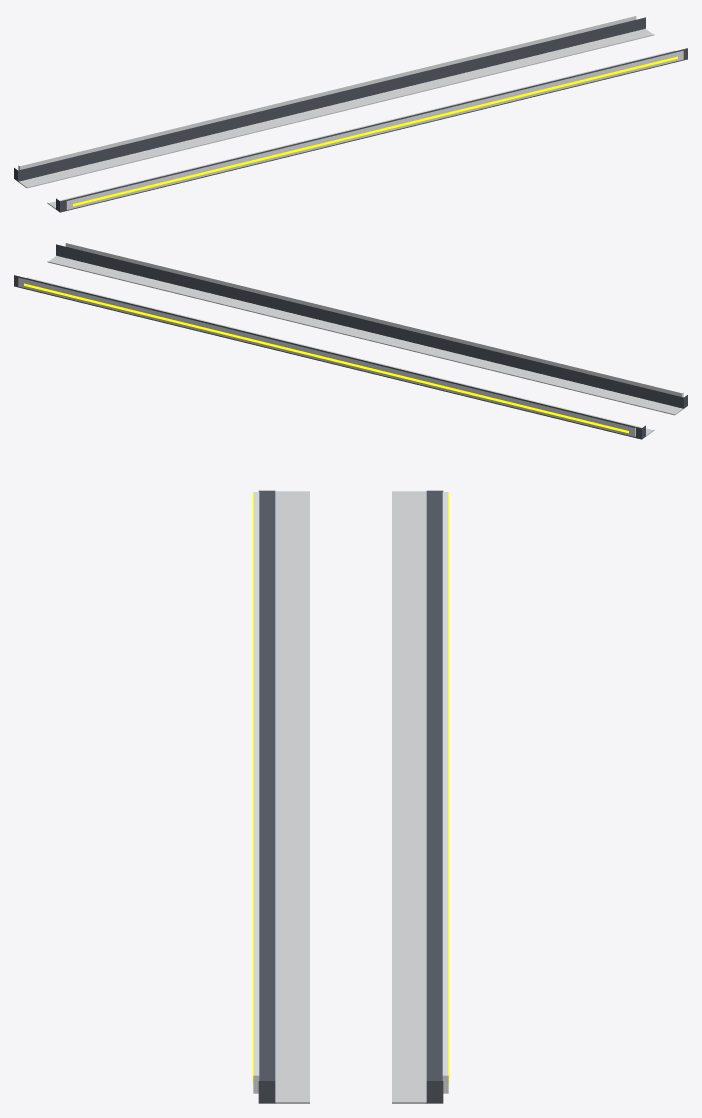
The model's file is ext_maglev_magnet_module_03.glb.
The picture shows the model from 3 angles, top to bottom: view 1: azimuth 30°, elevation 25°; view 2: azimuth 150°, elevation 25°; view 3: azimuth 270°, elevation 25°; orthographic projection. The views are drawn at different scales.
Visible parts, largest first — view 1: Magnet_Arms, Fairings, Lev_Magnets, Lev_Glow; view 2: Magnet_Arms, Fairings, Lev_Magnets, Lev_Glow; view 3: Lev_Magnets, Magnet_Arms, Fairings, Lev_Glow.
Boxes of the visible parts, x1,y1,x2,y2 form: Magnet_Arms: (14,17,687,212); Fairings: (18,16,683,209); Lev_Magnets: (18,29,675,209); Lev_Glow: (73,56,677,206); Magnet_Arms: (14,244,687,439); Fairings: (18,243,683,436); Lev_Magnets: (26,256,683,436); Lev_Glow: (24,283,628,433); Lev_Magnets: (275,491,426,1103); Magnet_Arms: (258,490,443,1103); Fairings: (253,492,448,1093); Lev_Glow: (252,492,449,1082).
Size of the model in its own units: 11 by 0.194 by 1.49.
